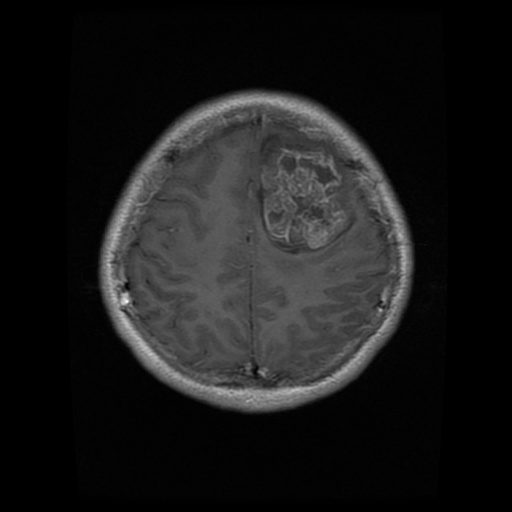glioma: (258, 132, 356, 253)
